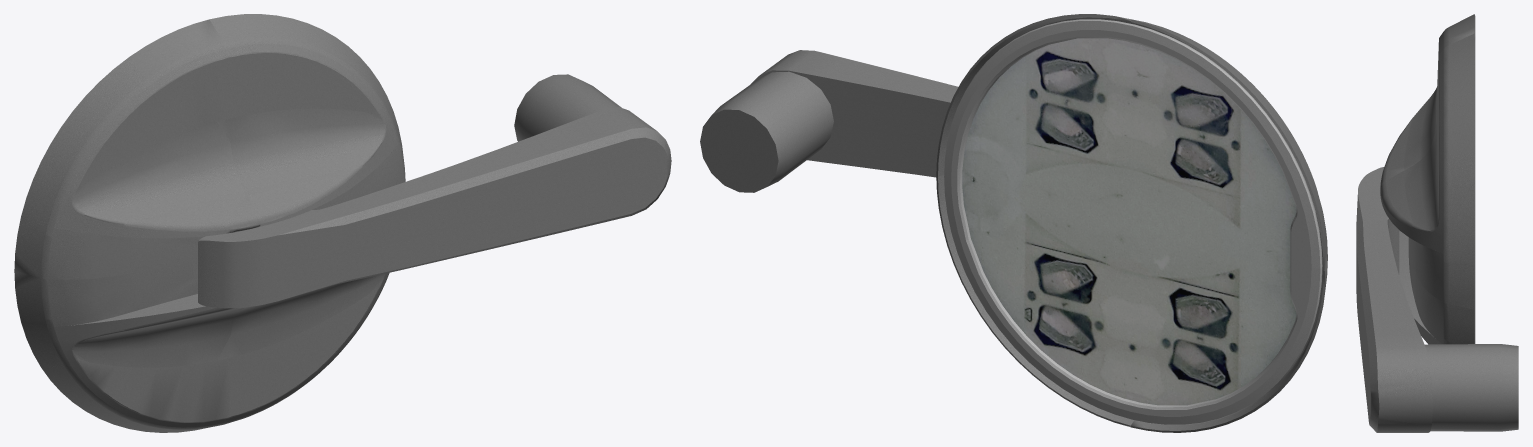
The model's file is DL_50_Mini.obj.
3 renders of one model, left to right at view 1: azimuth 30°, elevation 25°; view 2: azimuth 150°, elevation 25°; view 3: azimuth 270°, elevation 25°, orthographic. The views are drawn at different scales.
Visible parts, largest first — view 1: Siteco_DL_50_Mini_DL_50_Mini; view 2: Siteco_DL_50_Mini_DL_50_Mini; view 3: Siteco_DL_50_Mini_DL_50_Mini.
Boxes of the visible parts, left/top/right/bottom form: Siteco_DL_50_Mini_DL_50_Mini: left=14, top=14, right=671, bottom=432; Siteco_DL_50_Mini_DL_50_Mini: left=700, top=14, right=1327, bottom=432; Siteco_DL_50_Mini_DL_50_Mini: left=1356, top=14, right=1518, bottom=432.
Bounding box in the file's own units: 0.7764 × 0.5 × 0.1955.
Materials: 3 (3 with a texture image).
